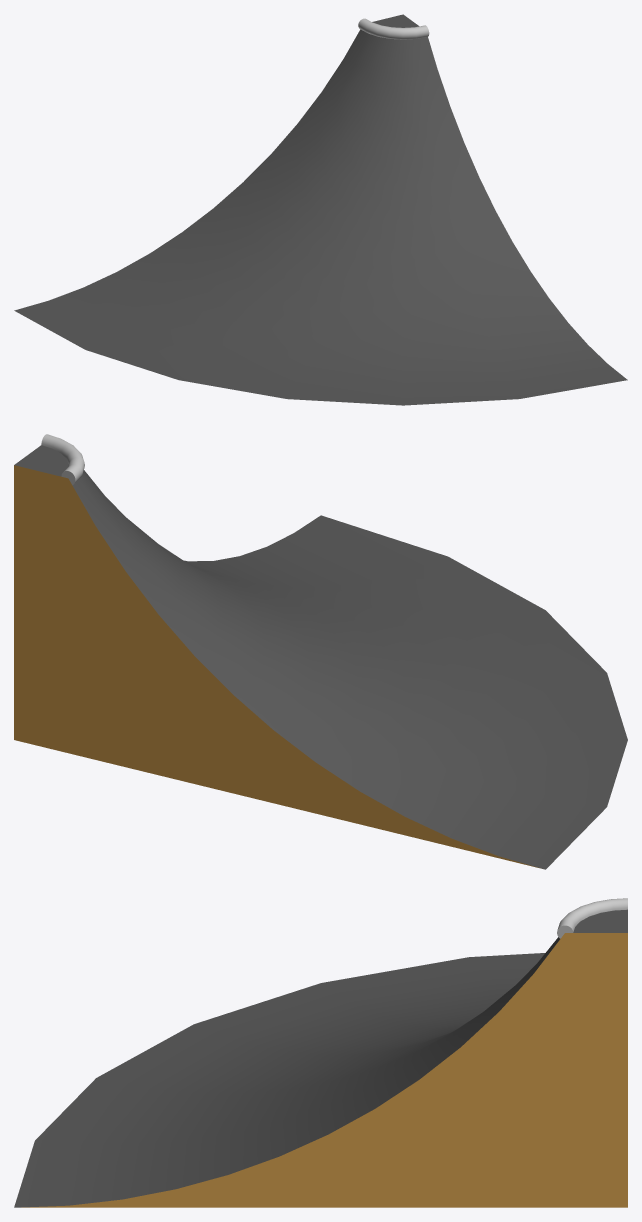
File: Skate_Bowl_Corner_Inner_Rail_01.fbx
3 renders of one model, top to bottom at view 1: azimuth 30°, elevation 25°; view 2: azimuth 150°, elevation 25°; view 3: azimuth 270°, elevation 25°, orthographic. The views are drawn at different scales.
Parts seen in each view (by area): view 1: Skate_Bowl_Corner_Inner_Rail_01; view 2: Skate_Bowl_Corner_Inner_Rail_01; view 3: Skate_Bowl_Corner_Inner_Rail_01.
Boxes of the visible parts, x1=… form: Skate_Bowl_Corner_Inner_Rail_01: x1=14, y1=14, x2=627, y2=405; Skate_Bowl_Corner_Inner_Rail_01: x1=14, y1=434, x2=627, y2=869; Skate_Bowl_Corner_Inner_Rail_01: x1=14, y1=898, x2=627, y2=1207.
Bounding box in the file's own units: 3 × 1.52 × 3.
